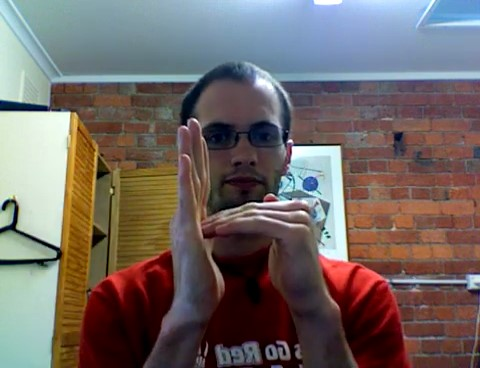Z: (162, 113, 337, 316)
